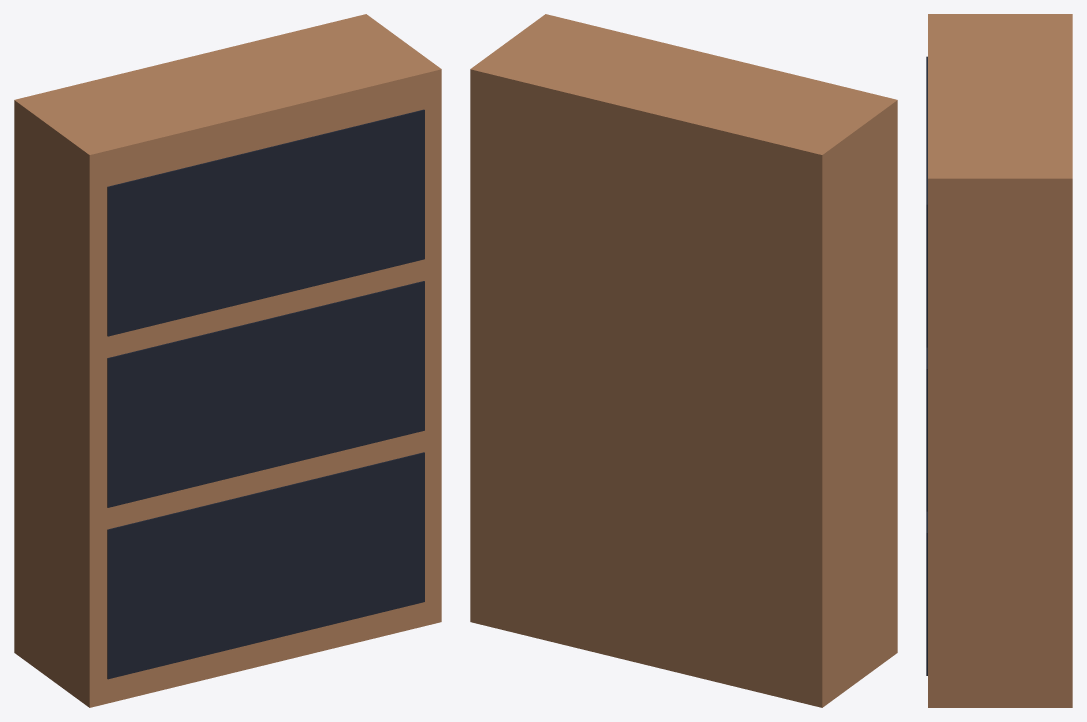
The model's file is bookshelf.glb.
3 renders of one model, left to right at view 1: azimuth 30°, elevation 25°; view 2: azimuth 150°, elevation 25°; view 3: azimuth 270°, elevation 25°, orthographic. The views are drawn at different scales.
Visible parts, largest first — view 1: bookshelf; view 2: bookshelf; view 3: bookshelf.
Boxes of the visible parts, x1=… form: bookshelf: x1=14, y1=14, x2=441, y2=707; bookshelf: x1=470, y1=14, x2=897, y2=707; bookshelf: x1=926, y1=14, x2=1072, y2=707.
Size of the model in its own units: 80 by 120 by 30.
